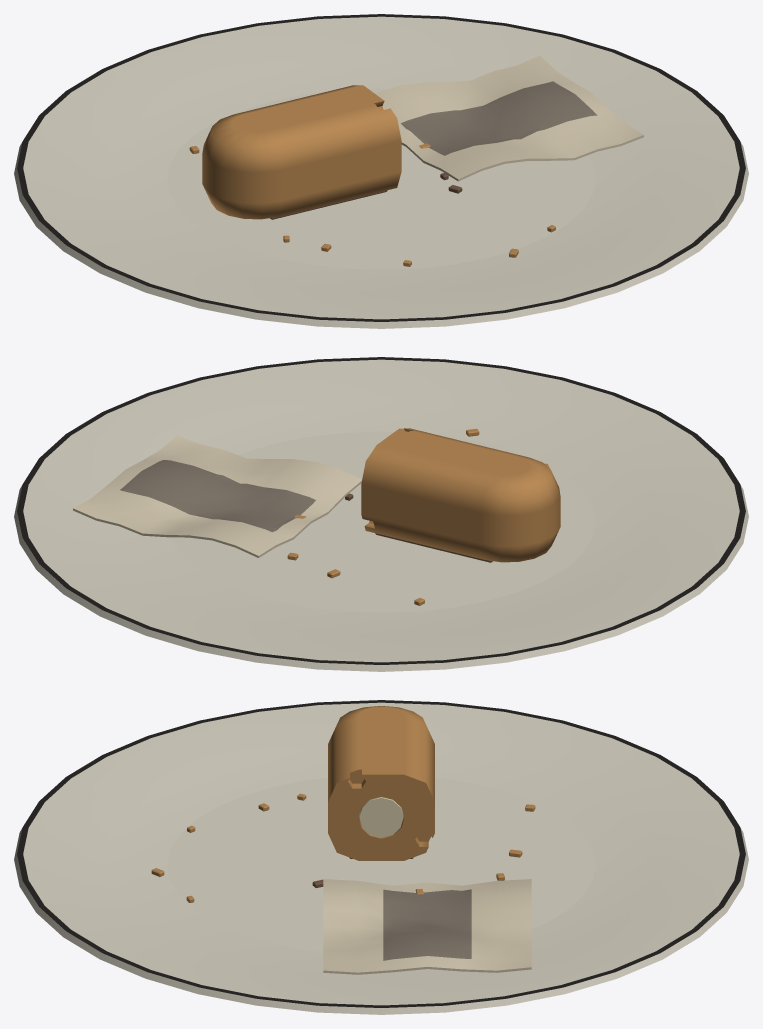
Rendered from snack-cake-plate-1f6008e921f2.glb.
3 renders of one model, top to bottom at view 1: azimuth 30°, elevation 25°; view 2: azimuth 150°, elevation 25°; view 3: azimuth 270°, elevation 25°, orthographic.
Visible parts, largest first — view 1: enamel, food-cake, paper, cover-print, enamel-black; view 2: enamel, food-cake, paper, cover-print, enamel-black; view 3: enamel, food-cake, paper, enamel-black, cover-print, dial-cream.
Boxes of the visible parts, x1=… form: enamel: x1=14, y1=16, x2=748, y2=328; food-cake: x1=189, y1=85, x2=555, y2=266; paper: x1=375, y1=55, x2=643, y2=181; cover-print: x1=401, y1=81, x2=597, y2=155; enamel-black: x1=17, y1=14, x2=745, y2=321; enamel: x1=14, y1=359, x2=748, y2=671; food-cake: x1=287, y1=428, x2=560, y2=605; paper: x1=73, y1=435, x2=361, y2=557; cover-print: x1=120, y1=460, x2=315, y2=532; enamel-black: x1=17, y1=357, x2=745, y2=664; enamel: x1=14, y1=702, x2=748, y2=1014; food-cake: x1=151, y1=706, x2=535, y2=902; paper: x1=323, y1=879, x2=531, y2=974; enamel-black: x1=17, y1=700, x2=745, y2=1007; cover-print: x1=383, y1=889, x2=471, y2=960; dial-cream: x1=359, y1=797, x2=403, y2=837.
Size of the model in its own units: 0.24 by 0.0354 by 0.24.
